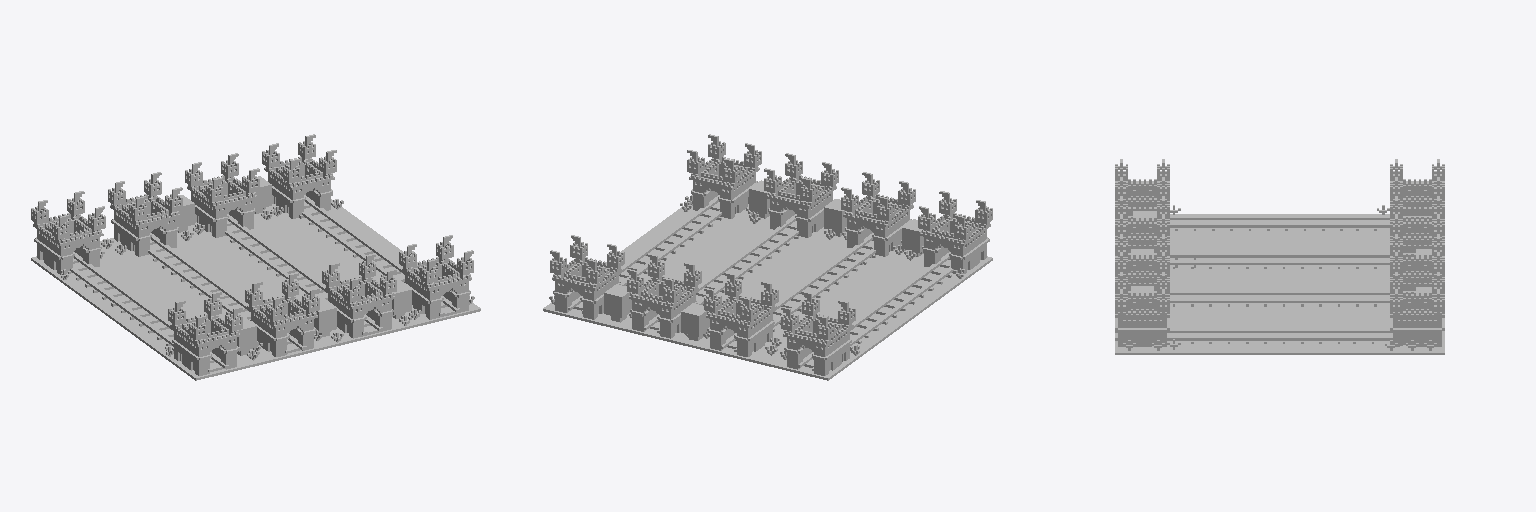
File: train.obj
3 views of the same model, side by side, from view 1: azimuth 30°, elevation 25°; view 2: azimuth 150°, elevation 25°; view 3: azimuth 270°, elevation 25° (orthographic).
Size of the model in its own units: 126 by 25 by 126.